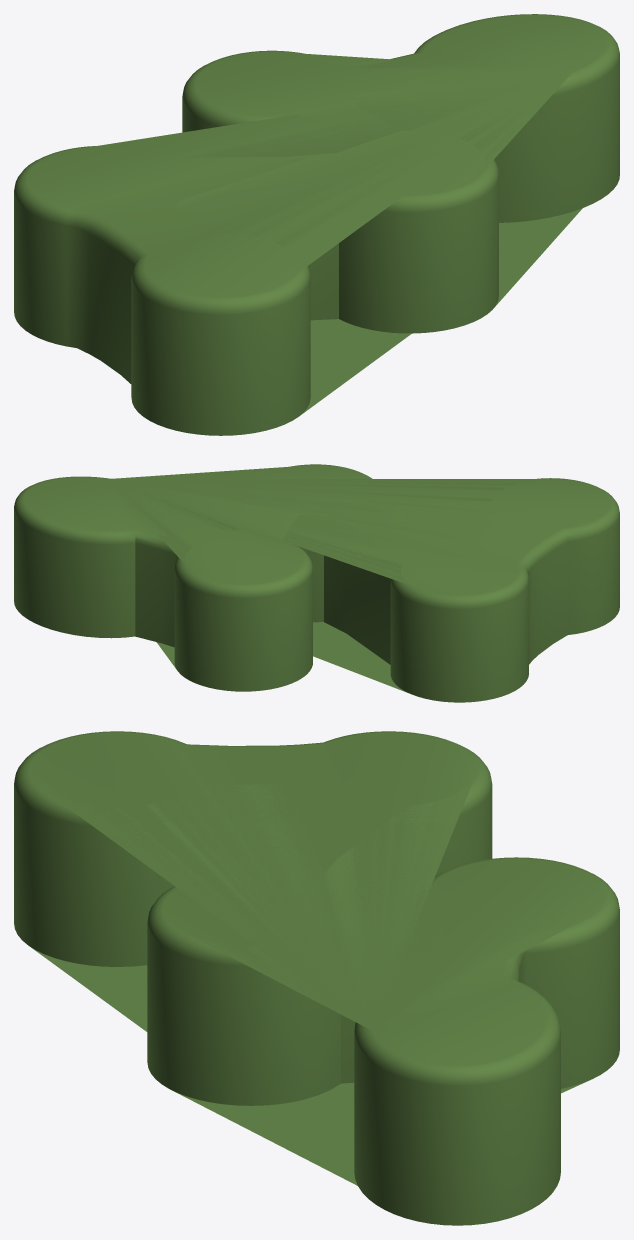
The model's file is oturak.fbx.
The picture shows the model from 3 angles, top to bottom: view 1: azimuth 30°, elevation 25°; view 2: azimuth 150°, elevation 25°; view 3: azimuth 270°, elevation 25°; orthographic projection. The views are drawn at different scales.
Visible parts, largest first — view 1: oturak; view 2: oturak; view 3: oturak.
Boxes of the visible parts, x1,y1,x2,y2 form: oturak: (14,14,619,435); oturak: (14,464,619,702); oturak: (14,731,619,1225).
Size of the model in its own units: 435 by 90.05 by 322.
